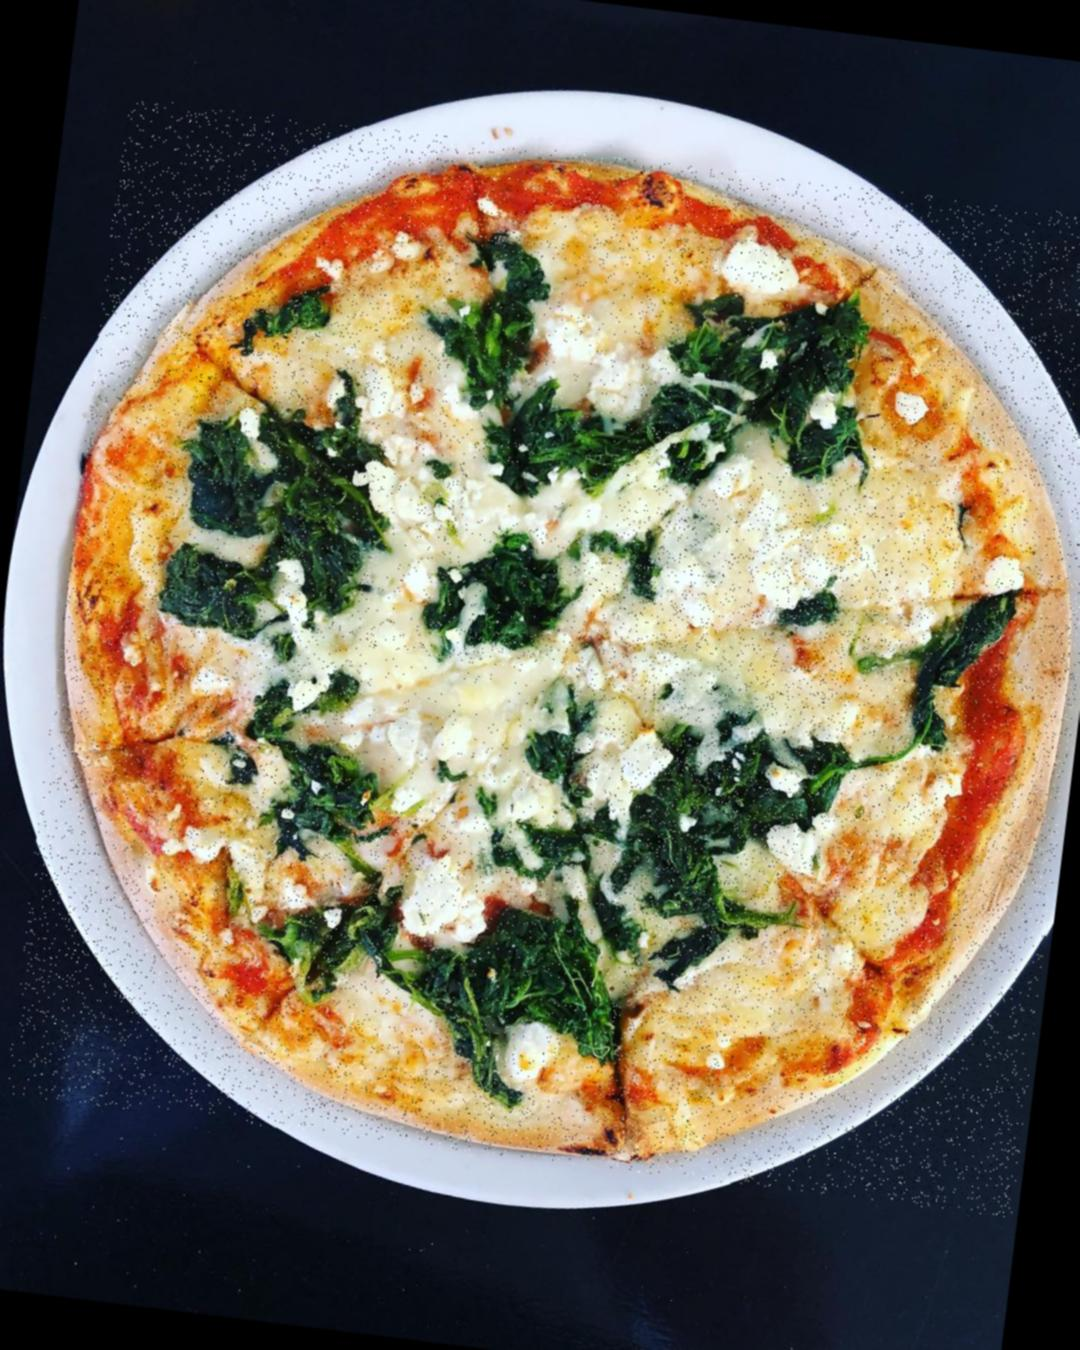Arugula: (361, 881, 628, 1093), (626, 722, 834, 960), (674, 270, 882, 479), (443, 249, 650, 456), (192, 409, 376, 608), (916, 577, 1015, 750), (446, 532, 558, 635)
Cheese: (608, 492, 896, 736), (350, 650, 576, 827), (365, 438, 462, 640), (466, 457, 623, 536)
Pizza: (6, 96, 1080, 1217)
